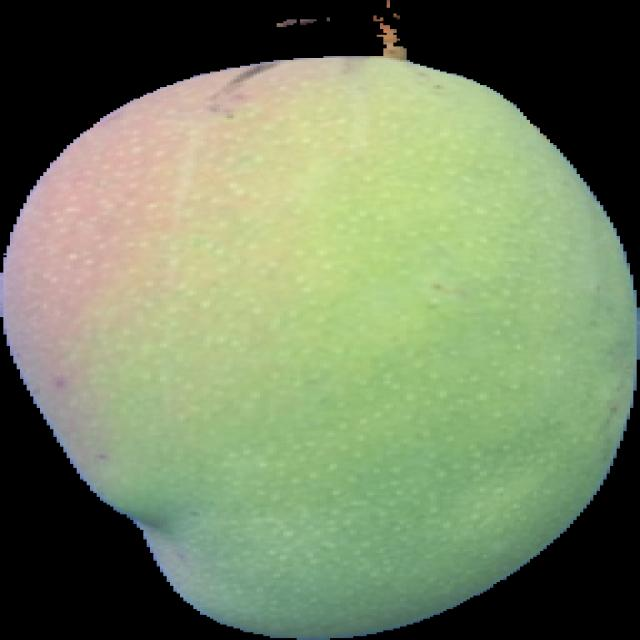Mango-sano: (0, 24, 639, 639)
